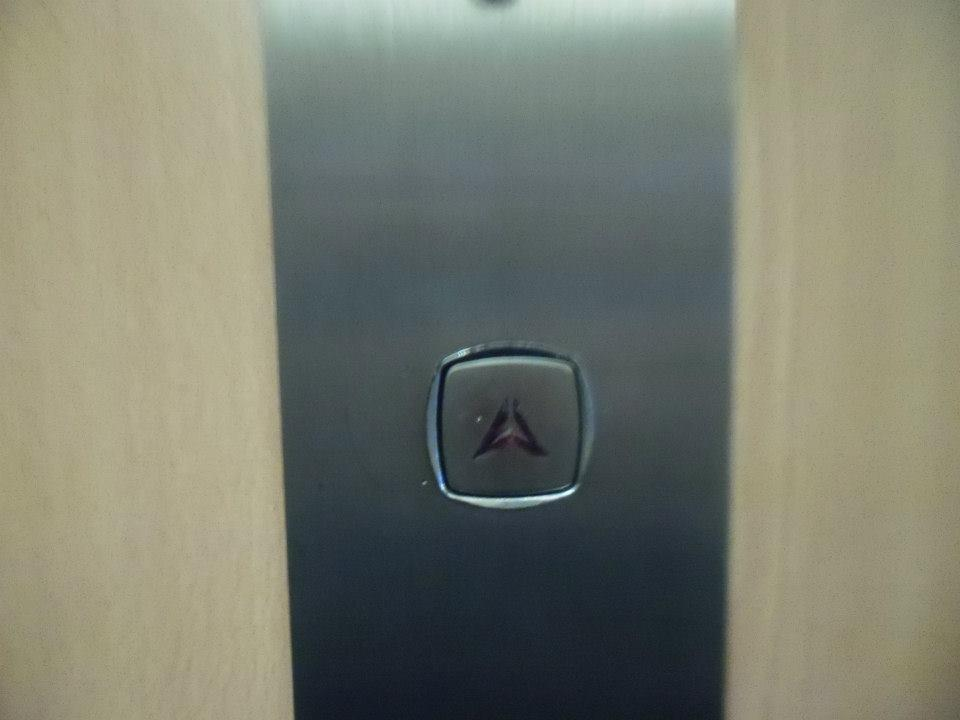up: (418, 332, 601, 515)
